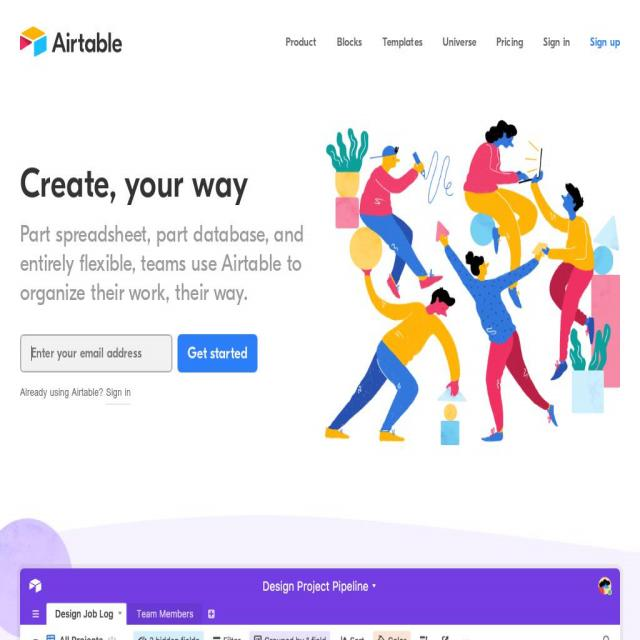field: (12, 325, 268, 387)
login-option: (540, 30, 579, 58)
navigation-links: (268, 24, 526, 54)
sign-up-option: (584, 30, 626, 60)
